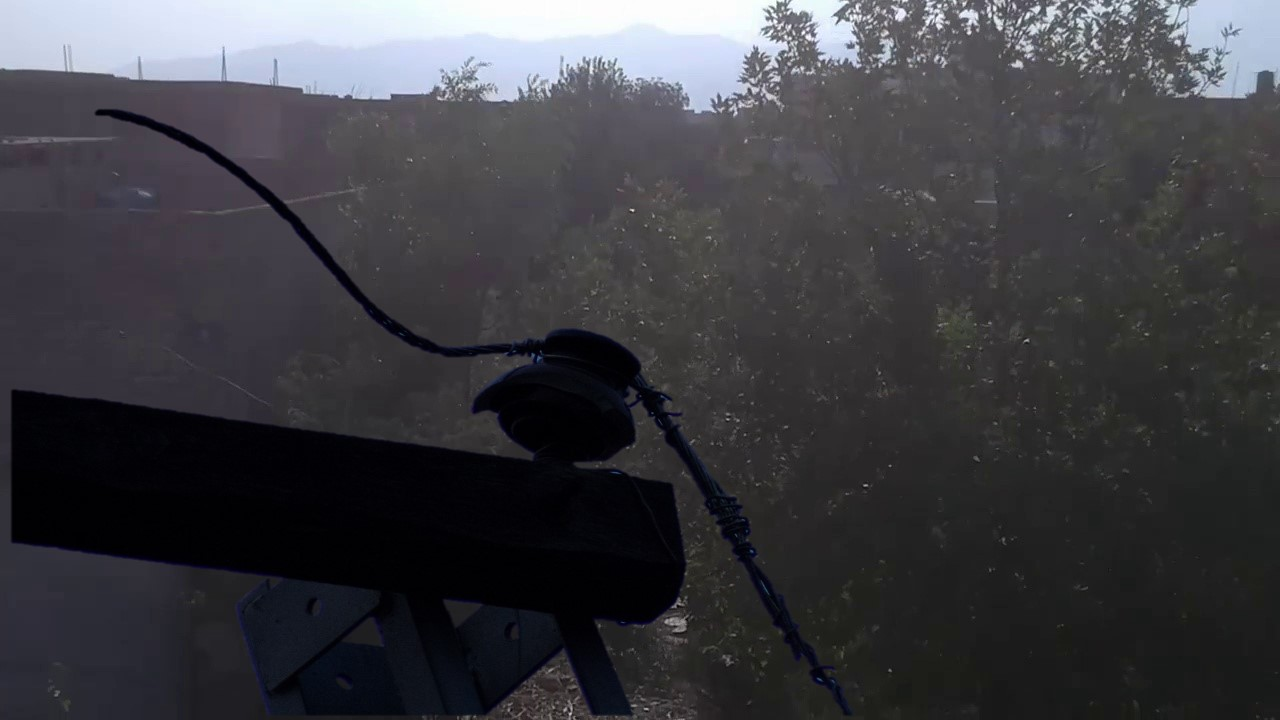defect_pin: (471, 325, 651, 473)
